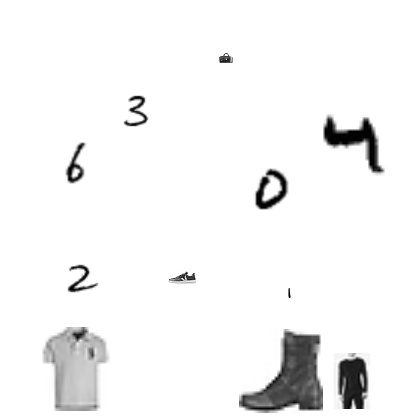0: (242, 161, 298, 217)
1: (282, 286, 296, 300)
2: (59, 259, 101, 301)
3: (115, 90, 157, 132)
4: (312, 97, 396, 181)
6: (46, 137, 102, 193)
Ankle_boot: (239, 329, 323, 413)
Bag: (219, 51, 233, 65)
Pullover: (324, 353, 380, 409)
Sneaker: (168, 263, 196, 291)
T-shirt/top: (34, 327, 118, 411)
